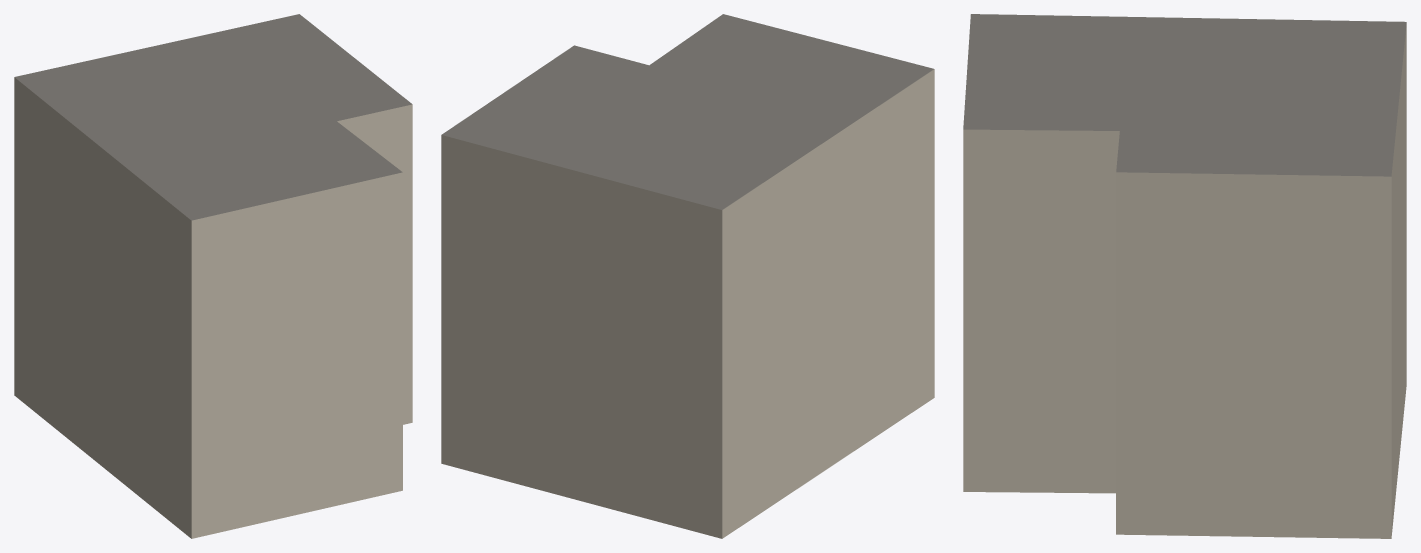
The picture shows the model from 3 angles, left to right: view 1: azimuth 30°, elevation 25°; view 2: azimuth 150°, elevation 25°; view 3: azimuth 270°, elevation 25°; orthographic projection. The views are drawn at different scales.
Parts seen in each view (by area): view 1: HP-w505636139; view 2: HP-w505636139; view 3: HP-w505636139.
Part boxes in pixels (x1=…): HP-w505636139: x1=14, y1=14, x2=412, y2=538; HP-w505636139: x1=441, y1=14, x2=934, y2=538; HP-w505636139: x1=963, y1=14, x2=1406, y2=538.
Bounding box in the file's own units: 17.32 × 18 × 19.97.
